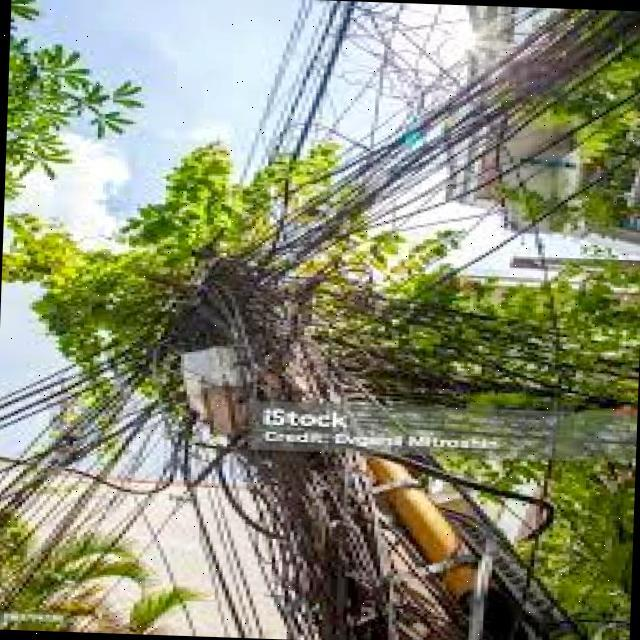critical vegetation: (0, 72, 481, 387)
